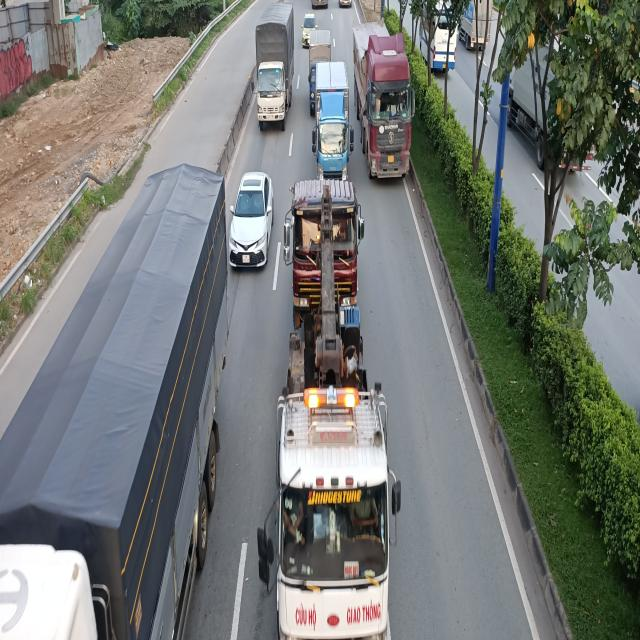car: (228, 172, 274, 271), (304, 13, 316, 48), (339, 0, 354, 8)
container: (353, 27, 413, 181)
truck: (0, 175, 225, 640), (259, 322, 402, 640), (254, 2, 295, 132), (312, 64, 354, 181)
